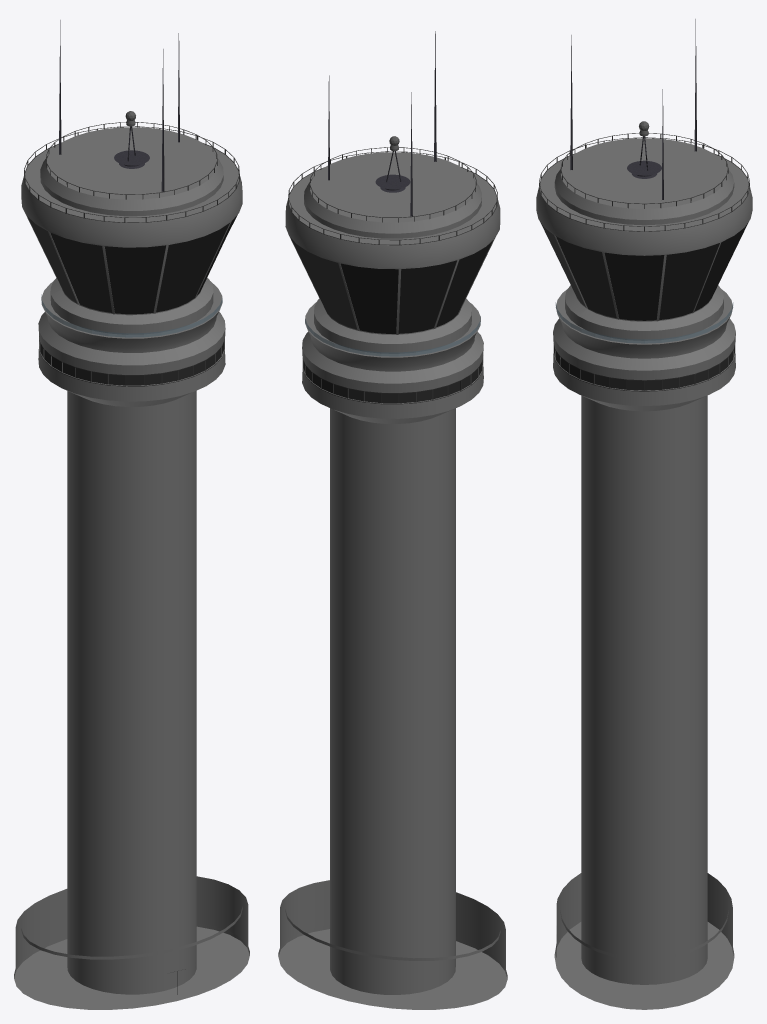
Rendered from tower.glb.
The picture shows the model from 3 angles, left to right: view 1: azimuth 30°, elevation 25°; view 2: azimuth 150°, elevation 25°; view 3: azimuth 270°, elevation 25°; orthographic projection. The views are drawn at different scales.
Visible parts, largest first — view 1: tower; view 2: tower; view 3: tower.
Part boxes in pixels (x1,y1,x2,y2): tower: (14, 20, 249, 1009); tower: (278, 31, 507, 1009); tower: (536, 19, 752, 1009).
Bounding box in the file's own units: 10.83 × 45.58 × 9.58.
Materials: 6 (3 with a texture image).
